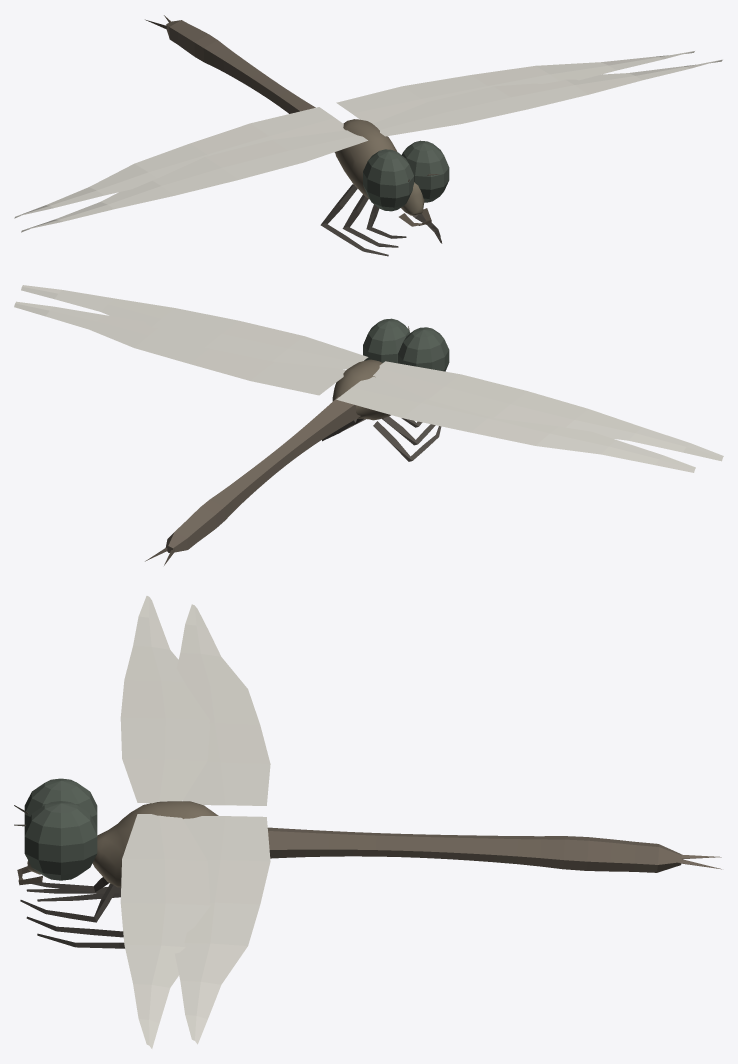
File: griffinfly_lo.glb
The picture shows the model from 3 angles, top to bottom: view 1: azimuth 30°, elevation 25°; view 2: azimuth 150°, elevation 25°; view 3: azimuth 270°, elevation 25°; orthographic projection. The views are drawn at different scales.
Parts seen in each view (by area): view 1: griffinfly_lo; view 2: griffinfly_lo; view 3: griffinfly_lo.
Part boxes in pixels (x1,y1,x2,y2): griffinfly_lo: [14, 15, 722, 256]; griffinfly_lo: [14, 285, 723, 565]; griffinfly_lo: [14, 596, 721, 1048].
Bounding box in the file's own units: 1 × 0.1365 × 0.6683.
